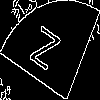Z: (24, 25, 62, 81)
